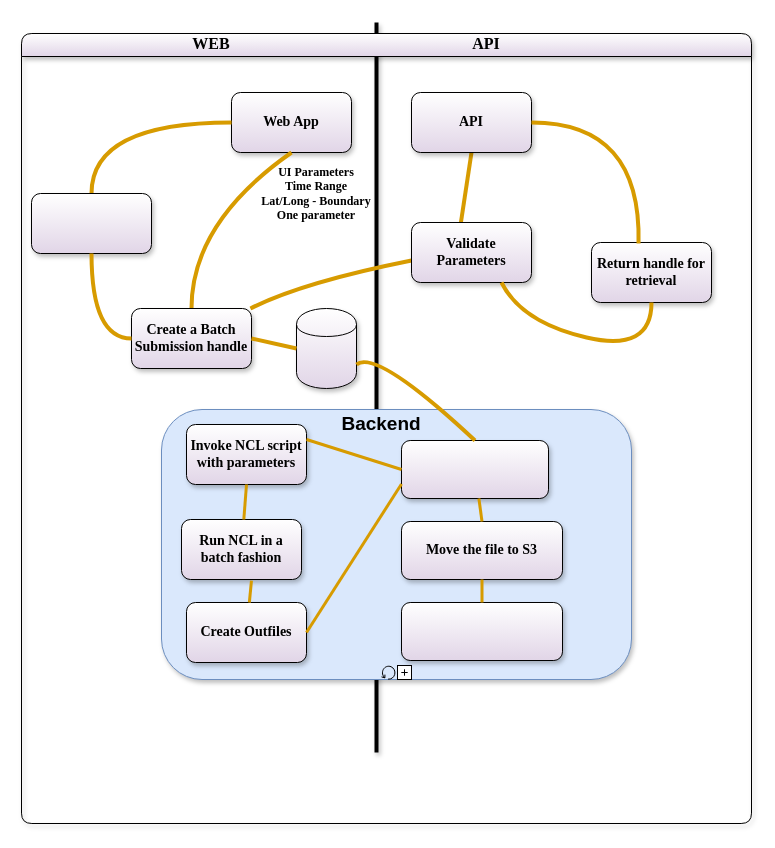
This 775x848 diagram has some shape labels left out. The shapes that lost their labels are listed below. From the top down, each one's centre as x and y in pixels, then its label:
(92,224): Present to user submitted job
(327,350): Requests
(475,471): Monitor New Batches
(482,633): Send Email to User with S3 link
